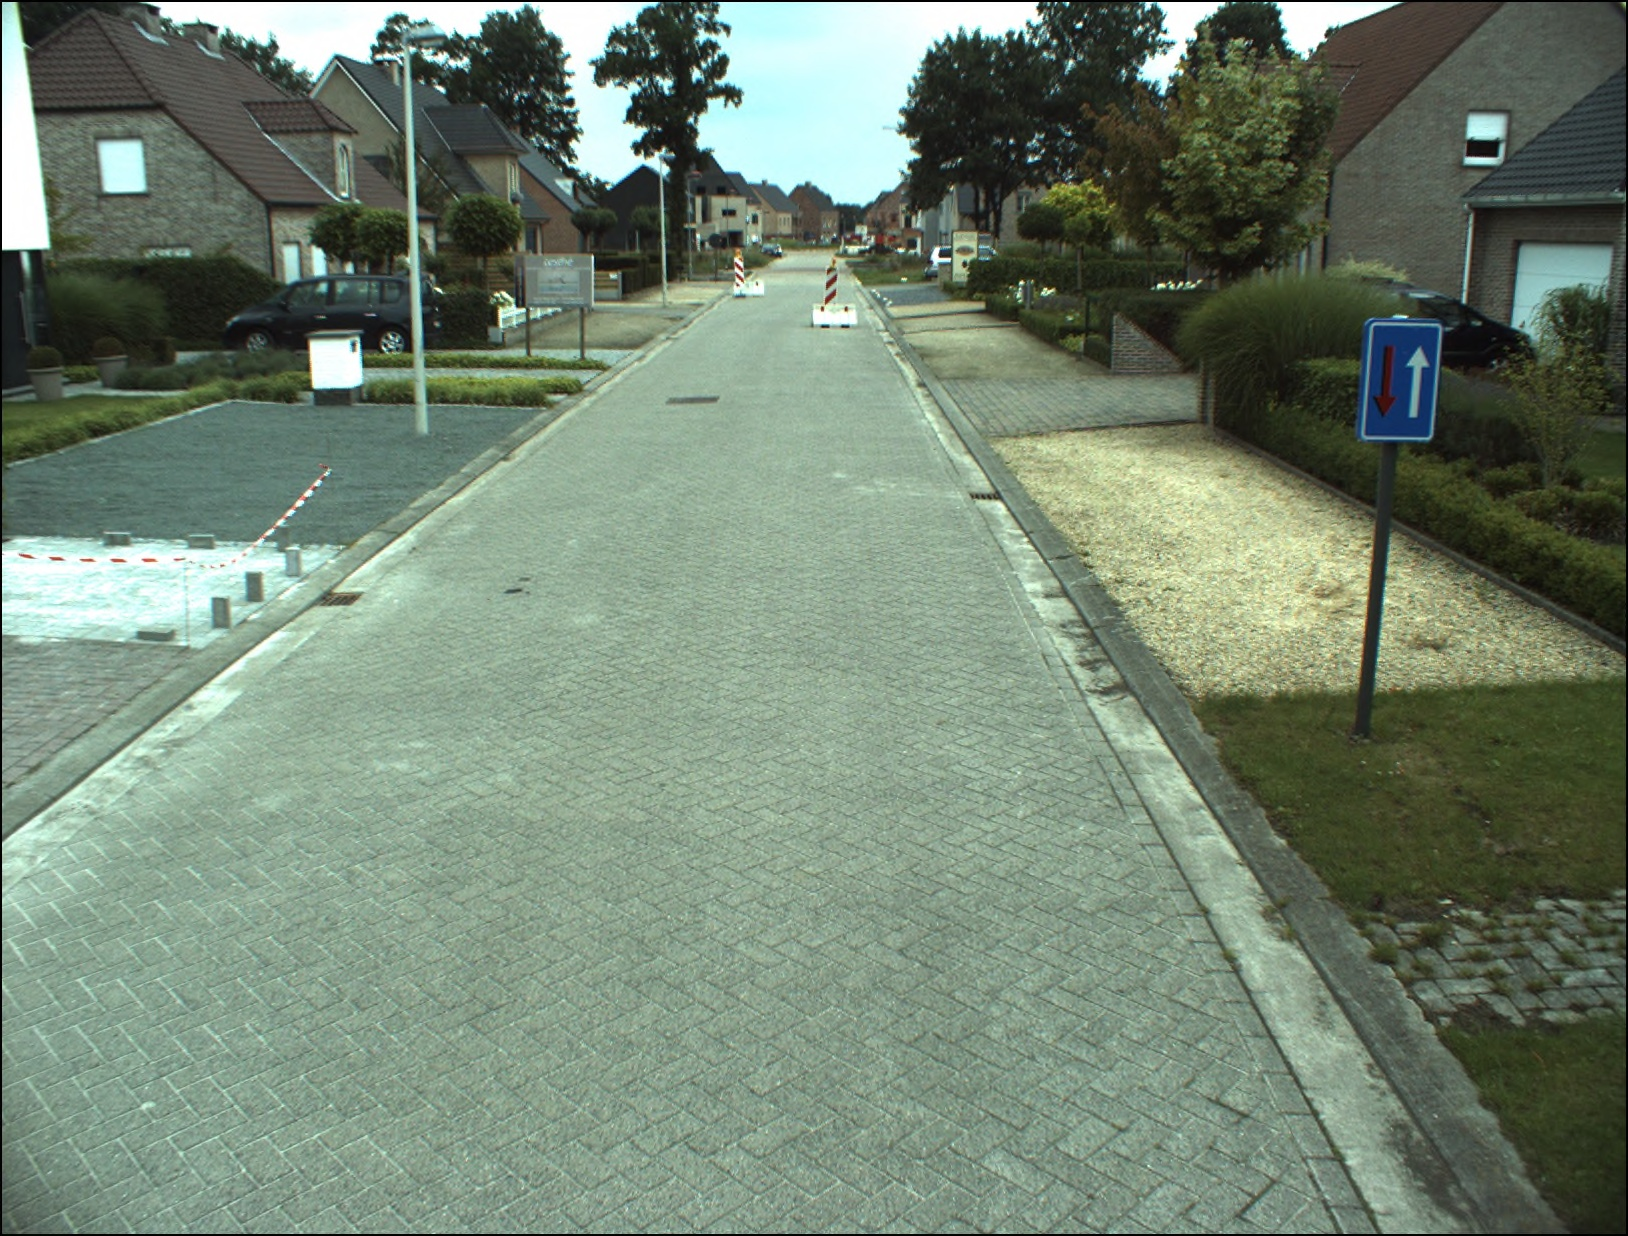roadnarrow1: (1371, 321, 1432, 439)
